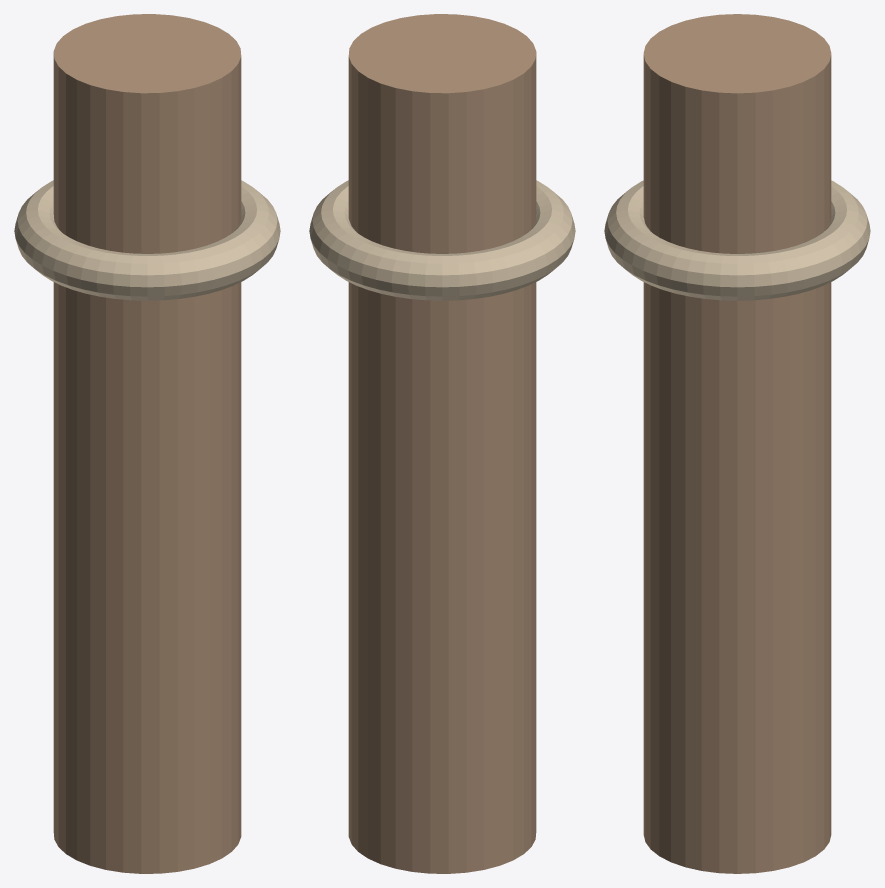
File: rope_post.glb
3 views of the same model, side by side, from view 1: azimuth 30°, elevation 25°; view 2: azimuth 150°, elevation 25°; view 3: azimuth 270°, elevation 25° (orthographic).
Visible parts, largest first — view 1: Cylinder, Torus; view 2: Cylinder, Torus; view 3: Cylinder, Torus.
Boxes of the visible parts, x1,y1,x2,y2 form: Cylinder: (53, 14, 241, 873); Torus: (14, 180, 280, 300); Cylinder: (348, 14, 536, 873); Torus: (309, 180, 575, 300); Cylinder: (643, 14, 831, 873); Torus: (604, 180, 870, 300).
Bounding box in the file's own units: 0.34 × 1.1 × 0.34.
